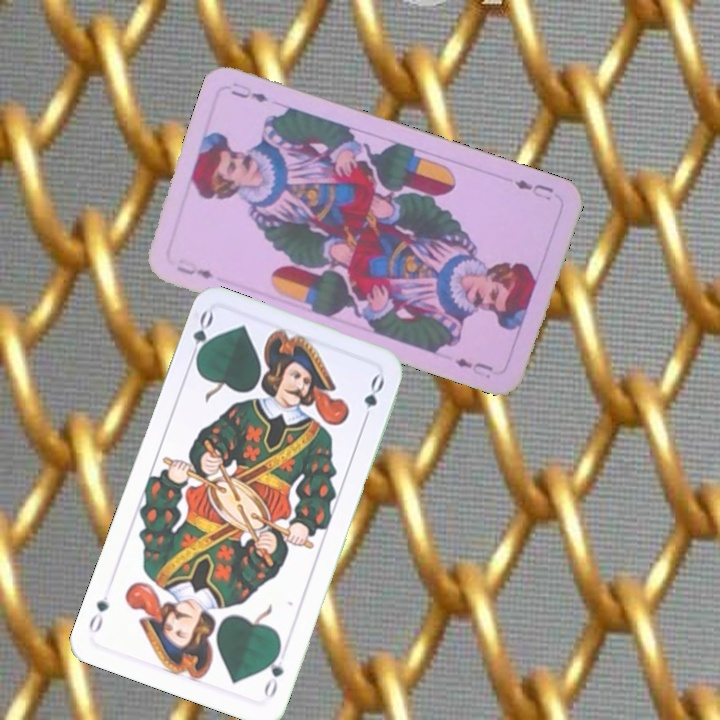EU: (509, 175, 556, 203), (172, 254, 217, 282)
GO: (185, 307, 216, 367), (259, 643, 286, 701)
